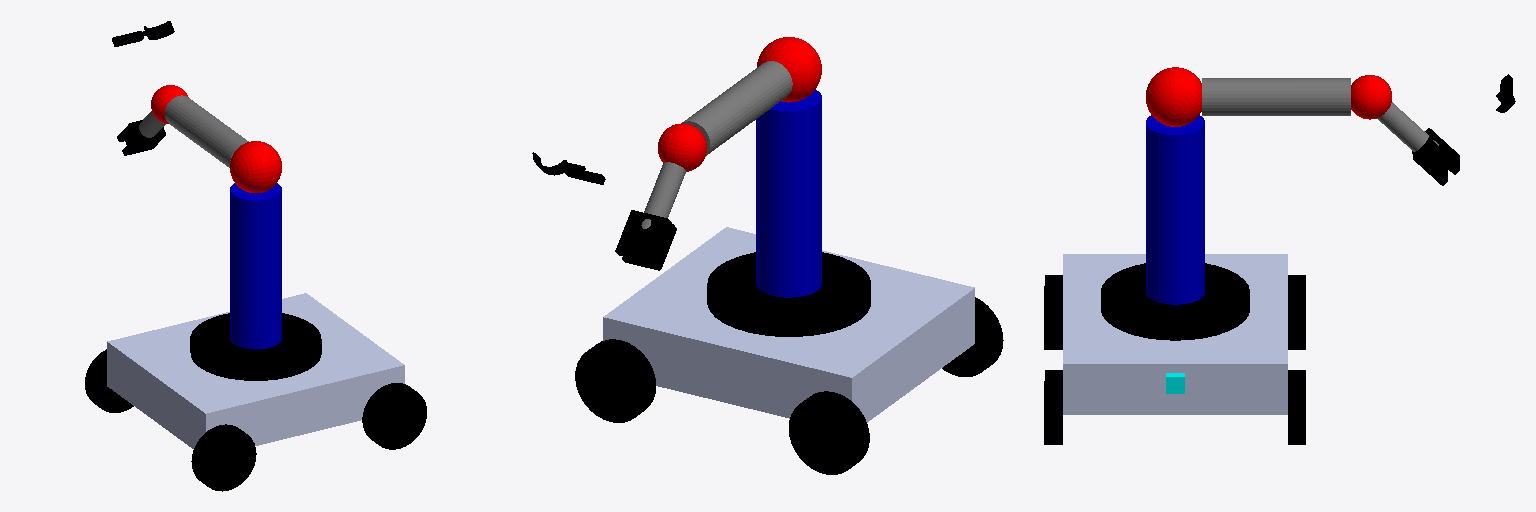
URDF robot description (armatronix):
<?xml version="1.0"?>
<robot name="armatronix">

    <link name="base_link">
        <visual>
            <origin xyz="0 0 0.075" rpy="0 0 0"/>
            <geometry>
                <box size="0.7 0.6 0.15" />
            </geometry>
            <material name="">
                <color rgba="0.79216 0.81961 0.93333 1" />
            </material>
        </visual>
        <collision>
            <origin xyz="0 0 0.075" rpy="0 0 0"/>
            <geometry>
                <box size="0.7 0.6 0.15" />
            </geometry>
        </collision>
        <inertial><origin xyz="0 0 0.075" rpy="0 0 0" /><mass value="5" /><inertia ixx="0.159375" ixy="0.0" ixz="0.0" iyy="0.213542" iyz="0.0" izz="0.354167" /></inertial>
    </link>


    <link name="camera_link">
        <visual>
            <origin xyz="0 0 0" rpy="0 0 0"/>
            <geometry>
                <box size="0.05 0.05 0.05"/> 
            </geometry>
            <material name="cyan">
                <color rgba="0.0 1.0 1.0 1.0"/> 
            </material>
        </visual>
        <collision>
            <origin xyz="0 0 0" rpy="0 0 0"/>
            <geometry>
                <box size="0.05 0.05 0.05"/> 
            </geometry>
        </collision>
        <inertial>
            <origin xyz="0 0 0" rpy="0 0 0"/>
            <mass value="0.1"/> 
            <inertia ixx="0.00005" ixy="0.0" ixz="0.0" iyy="0.00005" iyz="0.0" izz="0.0001"/>
        </inertial>

    </link>

    <joint name="camera_joint" type="fixed">
        <axis xyz="0 1 0" />
        <parent link="base_link" />
        <child link="camera_link" />
        <origin rpy="0 0 0" xyz="0.35 0 0.1" />
    </joint>


    <link name="front_left_wheel">
        <visual>
            <origin xyz="0 0 0" rpy="0.0 1.5708 0.0"/>
            <geometry>
                <cylinder radius="0.1" length="0.05" />
            </geometry>
            <material name="black">
                <color rgba="0 0 0 1.0" />
            </material>
        </visual>
        <collision>
            <origin xyz="0 0 0" rpy="0.0 1.5708 0.0"/>
            <geometry>
                <cylinder radius="0.1" length="0.05" />
            </geometry>
            <surface>
                <friction>
                    <ode>
                        <mu>0.9</mu> 
                        <mu2>0.9</mu2>
                    </ode>
                </friction>
            </surface>
        </collision>
    
        <inertial><origin xyz="0 0 0" rpy="0 1.5708 0" /><mass value="2" /><inertia ixx="0.005417" ixy="0.0" ixz="0.0" iyy="0.005417" iyz="0.0" izz="0.010000" /></inertial>
    </link>

    <joint name="front_left_wheel_joint" type="continuous">
        <axis xyz="1 0 0" />
        <parent link="base_link" />
        <child link="front_left_wheel" />
        <origin xyz="0.3 0.325 0" rpy="0 0 1.57"/>
    </joint>


    <link name="front_right_wheel">
        <visual>
            <origin xyz="0 0 0" rpy="0.0 1.5708 0.0"/>
            <geometry>
                <cylinder radius="0.1" length="0.05" />
            </geometry>
            <material name="black">
                <color rgba="0 0 0 1.0" />
            </material>
        </visual>
    <collision>
        <origin xyz="0 0 0" rpy="0 1.5708 0" />
        <geometry>
            <cylinder radius="0.1" length="0.05" />
        </geometry>
        <surface>
            <friction>
                <ode>
                    <mu>0.9</mu> 
                    <mu2>0.9</mu2>
                </ode>
            </friction>
        </surface>

    </collision>
    
    <inertial><origin xyz="0 0 0" rpy="0 1.5708 0" /><mass value="2" /><inertia ixx="0.005417" ixy="0.0" ixz="0.0" iyy="0.005417" iyz="0.0" izz="0.010000" /></inertial></link>

    <joint name="front_right_wheel_joint" type="continuous">
        <axis xyz="1 0 0" />
        <parent link="base_link" />
        <child link="front_right_wheel" />
        <origin xyz="0.3 -0.325 0" rpy="0 0 1.57" />
    </joint>


    <link name="rear_left_wheel">
        <visual>
            <origin xyz="0 0 0" rpy="0 1.5708 0" />
            <geometry>
                <cylinder radius="0.1" length="0.05" />
            </geometry>
            <material name="black">
                <color rgba="0 0 0 1.0" />
            </material>
        </visual>
    <collision>
        <origin xyz="0 0 0" rpy="0 1.5708 0" />
        <geometry>
            <cylinder radius="0.1" length="0.05" />
        </geometry>
        <surface>
            <friction>
                <ode>
                    <mu>0.9</mu> 
                    <mu2>0.9</mu2>
                </ode>
            </friction>
        </surface>
    </collision>
    
    <inertial><origin xyz="0 0 0" rpy="0 1.5708 0" /><mass value="2" /><inertia ixx="0.005417" ixy="0.0" ixz="0.0" iyy="0.005417" iyz="0.0" izz="0.010000" /></inertial></link>

    <joint name="rear_left_wheel_joint" type="continuous">
        <axis xyz="1 0 0" />
        <parent link="base_link" />
        <child link="rear_left_wheel" />
        <origin xyz="-0.3 0.325 0" rpy="0 0 1.57" />
    </joint>


    <link name="rear_right_wheel">
        <visual>
            <origin xyz="0 0 0" rpy="0 1.5708 0" />
            <geometry>
                <cylinder radius="0.1" length="0.05" />
            </geometry>
            <material name="black">
                <color rgba="0 0 0 1.0" />
            </material>
        </visual>
    <collision>
        <origin xyz="0 0 0" rpy="0 1.5708 0" />
        <geometry>
            <cylinder radius="0.1" length="0.05" />
        </geometry>
        <surface>
            <friction>
                <ode>
                    <mu>0.9</mu> 
                    <mu2>0.9</mu2>
                </ode>
            </friction>
        </surface>
    </collision>
    
    <inertial><origin xyz="0 0 0" rpy="0 1.5708 0" /><mass value="2" /><inertia ixx="0.005417" ixy="0.0" ixz="0.0" iyy="0.005417" iyz="0.0" izz="0.010000" /></inertial></link>

    <joint name="rear_right_wheel_joint" type="continuous">
        <axis xyz="1 0 0" />
        <parent link="base_link" />
        <child link="rear_right_wheel" />
        <origin xyz="-0.3 -0.325 0" rpy="0 0 1.57" />
    </joint>





    <link name="arm_base_link">
        <visual>
            <geometry>
                <cylinder length="0.05" radius="0.2" />
            </geometry>
            <material name="Black">
                <color rgba="0 0 0 1" />
            </material>
            <origin xyz="0 0 0.025" rpy="0 0 0" />
        </visual>
        <collision>
            <geometry>
                <cylinder length="0.05" radius="0.2" />
            </geometry>
            <origin xyz="0 0 0.025" rpy="0 0 0" />
        </collision>
        <inertial>
            <mass value="2.0" /> 
            <origin xyz="0 0 0.025" rpy="0 0 0" />
            <inertia ixx="0.0035" ixy="0.0" ixz="0.0" iyy="0.0035" iyz="0.0" izz="0.007" />
        </inertial>
    </link>

    <link name="link_1">
        <visual>
            <origin xyz="0.0 0.0 0.05" rpy="0.0 0.0 0.0" />
            <geometry>
                <cylinder radius="0.08" length="0.5" />
            </geometry>
            <material name="Blue">
                <color rgba="0 0 0.8 1" />
            </material>
        </visual>
        <collision>
            <geometry>
                <cylinder radius="0.08" length="0.5" />
            </geometry>
            <origin xyz="0.0 0.0 0.05" rpy="0.0 0.0 0.0" />
        </collision>
        <inertial>
            <mass value="1.5" /> 
            <origin xyz="0 0 0.05" rpy="0 0 0" />
            <inertia ixx="0.005" ixy="0.0" ixz="0.0" iyy="0.005" iyz="0.0" izz="0.0015" />
        </inertial>
    </link>

    <link name="link_2">
        <visual>
            <origin xyz="0 0 0.0" rpy="0 1.5708 0" />
            <geometry>
                <sphere radius="0.08"/>
                <!-- <cylinder radius="0.08" length="0.1" /> -->
            </geometry>
            <material name="Red">
                <color rgba="1 0 0 1" />
            </material>
        </visual>
        <collision>
            <geometry>
                <sphere radius="0.08"/>
                <!-- <cylinder radius="0.08" length="0.1" /> -->
            </geometry>
            <origin xyz="0 0 0.0" rpy="0 1.5708 0" />
        </collision>
        <inertial>
            <mass value="1.0" /> 
            <origin xyz="0 0 0.0" rpy="0 1.5708 0" />
            <inertia ixx="0.00256" ixy="0" ixz="0" iyy="0.00256" iyz="0" izz="0.00256"/>
        </inertial>
    </link>

    <link name="link_3">
        <visual>
            <origin xyz="0.0 0 -0.02" rpy="0 0 0" />
            <geometry>
                <cylinder radius="0.05" length="0.4" />
            </geometry>
            <material name="Blue">
                <color rgba="0.5 0.5 0.5 1" />
            </material>
        </visual>
        <collision>
            <geometry>
                <cylinder radius="0.05" length="0.4" />
            </geometry>
            <origin xyz="0.0 0 -0.02" rpy="0 0 0" />
        </collision>
        <inertial>
            <mass value="1.0" /> 
            <origin xyz="0.0 0 -0.02" rpy="0 0 0" />
            <inertia ixx="0.013958" ixy="0.0" ixz="0.0" iyy="0.013958" iyz="0.0" izz="0.00125" />
        </inertial>
    </link>

    <link name="link_4">
        <visual>
            <origin xyz="0 0 0.0" rpy="0 1.5708 0" />
            <geometry>
                <sphere radius="0.06"/>
            </geometry>
            <material name="Red">
                <color rgba="1 0 0 1" />
            </material>
        </visual>
        <collision>
            <geometry>
                <sphere radius="0.06"/>
            </geometry>
            <origin xyz="0 0 0.0" rpy="0 1.5708 0" />
        </collision>
        <inertial>
            <mass value="0.5" /> 
            <origin xyz="0 0 0.0" rpy="0 1.5708 0" />
            <inertia ixx="0.0002" ixy="0.0" ixz="0.0" iyy="0.0002" iyz="0.0" izz="0.00005" />
        </inertial>
    </link>

    <link name="link_5">
        <visual>
            <origin xyz="0 0.0 0.0" rpy="0 0 0" />
            <geometry>
                <cylinder radius="0.03" length="0.2" />
            </geometry>
            <material name="Blue">
                <color rgba="0.5 0.5 0.5 1" />
            </material>
        </visual>
        <collision>
            <geometry>
                <cylinder radius="0.03" length="0.2" />
            </geometry>
            <origin xyz="0 0.0 0.0" rpy="0 0 0" />
        </collision>
        <inertial>
            <mass value="0.8" /> 
            <origin xyz="0 0.0 0.0" rpy="0 0 0" />
            <inertia ixx="0.002693" ixy="0.0" ixz="0.0" iyy="0.002693" iyz="0.0" izz="0.00036" />
        </inertial>
    </link>

    <link name="gripper_link">
        <visual>
            <geometry>
                <!-- <mesh filename="[local-path]/sample_ws/install/armatronix/share/armatronix/meshes/angular_gripper_body.stl" scale="0.002 0.002 0.002"/> -->
                <mesh filename='package://armatronix/meshes/angular_gripper_body.stl' scale="0.002 0.002 0.002"/>
            </geometry>
            <material name="black">
                    <color rgba="0 0 0 1.0" />
            </material>
            <origin xyz="0 0.0 0.0" rpy="3.14 0 0"/>
        </visual>

        <collision>
            <geometry>
                <!-- <mesh filename="[local-path]/sample_ws/install/armatronix/share/armatronix/meshes/angular_gripper_body.stl" scale="0.002 0.002 0.002"/> -->
                <mesh filename='package://armatronix/meshes/angular_gripper_body.stl' scale="0.002 0.002 0.002"/>
            </geometry>
            <origin xyz="0 0.0 0.0" rpy="3.14 0 0"/>
        </collision>

        <inertial>
            <mass value="0.2"/>  
            <origin xyz="0 0.0 0.0" rpy="3.14 0 0"/>
            <inertia ixx="0.001" ixy="0.0" ixz="0.0" iyy="0.001" iyz="0.0" izz="0.001"/>
        </inertial>
    </link>

    <link name="gripper_left_claw">
        <visual>
            <origin xyz="0.0 0.0 0.0" rpy="0.0 0.0 0.0"/>
            <geometry>
                <!-- <mesh filename="[local-path]/sample_ws/install/armatronix/share/armatronix/meshes/angular_gripper_left_claw.stl" scale="0.002 0.002 0.002"/> -->
                <mesh filename='package://armatronix/meshes/angular_gripper_left_claw.stl' scale="0.002 0.002 0.002"/>
            </geometry>
            <material name="black">
                    <color rgba="0 0 0 1.0" />
            </material>
        </visual>

        <collision>
            <geometry>
                <!-- <mesh filename="[local-path]/sample_ws/install/armatronix/share/armatronix/meshes/angular_gripper_left_claw.stl" scale="0.002 0.002 0.002"/> -->
                <mesh filename='package://armatronix/meshes/angular_gripper_left_claw.stl' scale="0.002 0.002 0.002"/>
            </geometry>
            <origin xyz="0 0.0 0.0" rpy="0 0 0"/>
        </collision>

        <inertial>
            <mass value="0.05"/>  
            <origin xyz="0 0.0 0.0" rpy="3.14 0 0"/>
            <inertia ixx="0.001" ixy="0.0" ixz="0.0" iyy="0.001" iyz="0.0" izz="0.001"/>
        </inertial>
    </link>

    <joint name="joint_0" type="fixed">
        <parent link="base_link" />
        <child link="arm_base_link" />
        <origin rpy="0 0 0" xyz="0.0 0.0 0.15" />
    </joint>

    <joint name="joint_1" type="revolute">
        <axis xyz="0 0 1" />
        <parent link="arm_base_link" />
        <child link="link_1" />
        <origin rpy="0 0 0" xyz="0.0 0.0 0.25" />
        <limit lower="-3.14" upper="0.0" effort="10" velocity="1.0" />
    </joint>

    <joint name="joint_2" type="revolute">
        <axis xyz="1 0 0" />
        <dynamics damping="0.1" friction="0.0"/>

        <parent link="link_1" />
        <child link="link_2" />
        <origin rpy="0 0 0" xyz="0.0 0.0 0.375" />
        <limit lower="-0.1" upper="2.00" effort="50" velocity="1.0" />
    </joint>

    <joint name="joint_3" type="fixed">
        <parent link="link_2" />
        <child link="link_3" />
        <origin rpy="1.57 0 0" xyz="0.0 0.25 0 " />
    </joint>

    <joint name="joint_4" type="revolute">
        <parent link="link_3" />
        <child link="link_4" />
        <origin rpy="-0.785 0 0" xyz=" 0 0 -0.27" />
        <axis xyz="1 0 0" />
        <limit lower="-0.5" upper="0.3" effort="10" velocity="1.0" />
    </joint>

    <joint name="joint_5" type="fixed">
        <parent link="link_4" />
        <child link="link_5" />
        <origin rpy="0 0 0" xyz="0.0 0.0 -0.15 " />
    </joint>

    <joint name="gripper_joint" type="revolute">
        <axis xyz="0 1 0" />
        <parent link="link_5"/>
        <child link="gripper_link"/>
        <limit lower="0.00" upper="1.57" effort="10" velocity="1.0" />
        <origin xyz="0 0 -0.1" rpy="1.5708 0 0"/>  
    </joint>

    <joint name="left_claw_joint" type="revolute">
        <axis xyz="0 1 0"/>
        <parent link="gripper_link"/>
        <child link="gripper_left_claw"/>
        <limit lower="0.00" upper="1.57" effort="10" velocity="1.0"/>
        <origin xyz="0 0 -0.3" rpy="0 0 0"/>
    </joint>

    <gazebo reference="base_link">
        <material>Gazebo/Red</material>
    </gazebo>

    <gazebo reference="front_left_wheel">
        <material>Gazebo/Black</material>
    </gazebo>

    <gazebo reference="front_right_wheel">
        <material>Gazebo/Black</material>
    </gazebo>

    <gazebo reference="rear_left_wheel">
        <material>Gazebo/Black</material>
    </gazebo>

    <gazebo reference="rear_right_wheel">
        <material>Gazebo/Black</material>
    </gazebo>

    <gazebo reference="arm_base_link">
        <material>Gazebo/Black</material>
    </gazebo>

    <gazebo reference="link_1">
        <material>Gazebo/Blue</material>
    </gazebo>

    <gazebo reference="link_3">
        <material>Gazebo/Blue</material>
    </gazebo>

    <gazebo reference="link_2">
        <material>Gazebo/Red</material>
    </gazebo>

    <gazebo reference="link_4">
        <material>Gazebo/Red</material>
    </gazebo>

    <gazebo reference="link_5">
        <material>Gazebo/Blue</material>
    </gazebo>

    <gazebo reference="camera_link">
        <material>Gazebo/cyan</material>
    </gazebo>


    <ros2_control name="IgnitionSystem" type="system">
        <hardware>
            <plugin>gz_ros2_control/GazeboSimSystem</plugin>
        </hardware>
        <joint name="joint_1">
            <command_interface name="position"/>
            <state_interface name="velocity"/>
            <state_interface name="position"/>
        </joint>
        <joint name="joint_2">
            <command_interface name="position"/>
            <state_interface name="velocity"/>
            <state_interface name="position"/>
        </joint>
        <joint name="joint_4">
            <command_interface name="position"/>
            <state_interface name="velocity"/>
            <state_interface name="position"/>
        </joint>

        <joint name="gripper_joint">
            <command_interface name="position"/>
            <state_interface name="velocity"/>
            <state_interface name="position"/>
        </joint>
    </ros2_control>

    <gazebo>
        <plugin filename="gz_ros2_control-system" name="gz_ros2_control::GazeboSimROS2ControlPlugin">
            <robot_param>robot_description</robot_param>
            <parameters>[local-path]/sample_ws/install/armatronix/share/armatronix/config/joint_controller.yaml</parameters>
        </plugin>
    </gazebo>

    <gazebo> 
        <plugin
        filename="gz-sim-diff-drive-system"
        name="gz::sim::systems::DiffDrive">
        <left_joint>front_left_wheel_joint</left_joint>
        <left_joint>rear_left_wheel_joint</left_joint>
        <right_joint>front_right_wheel_joint</right_joint>
        <right_joint>rear_right_wheel_joint</right_joint>
        <wheel_separation>0.6</wheel_separation>
        <wheel_radius>0.1</wheel_radius>
        <max_linear_acceleration>2</max_linear_acceleration>
        <min_linear_acceleration>-2</min_linear_acceleration>
        <max_angular_acceleration>3</max_angular_acceleration>
        <min_angular_acceleration>-3</min_angular_acceleration>
        <max_linear_velocity>2.0</max_linear_velocity>
        <min_linear_velocity>-2.0</min_linear_velocity>
        <max_angular_velocity>1</max_angular_velocity>
        <min_angular_velocity>-1</min_angular_velocity>
        <topic>cmd_vel</topic>
        <frame_id>odom</frame_id>
        <child_frame_id>base_link</child_frame_id>
        <odom_topic>odom</odom_topic>
        <odom_publisher_frequency>50</odom_publisher_frequency>
        <tf_topic>/tf</tf_topic>
      </plugin>
    </gazebo>

    <!-- <gazebo reference="camera_link">
        <sensor name="camera" type="camera">
            <pose>0 0 0 0 0 0</pose>
            <visualise>true</visualise>
            <update_rate>10</update_rate>
            <camera>
                <camera_info_topic>camera/camera_info</camera_info_topic>
                <horizontal_fov>1.889</horizontal_fov>
                <image>
                    <format>R8G8B8</format>
                    <width>640</width>
                    <height>480</height>
                </image>
                <clip>
                    <near>0.85</near>
                    <far>8.0</far>
                </clip>
            </camera>
            <topic>camera/image_raw</topic>
            <gz_frame_id>camera_link_optical</gz_frame_id>
        </sensor>
    </gazebo> -->





</robot>

--- Render facts (derived) ---
Views: 3 orthographic renders of the robot side by side, from view 1: azimuth 30°, elevation 25°; view 2: azimuth 150°, elevation 25°; view 3: azimuth 270°, elevation 25°.
Model armatronix with 14 links and 13 joints (5 revolute, 4 continuous, 4 fixed), rooted at base_link, posed all joints at 0.
Visible links, largest first — view 1: base_link, link_1, arm_base_link, front_right_wheel, rear_right_wheel, link_3, link_2, rear_left_wheel, gripper_link, gripper_left_claw, link_4; view 2: base_link, link_1, arm_base_link, front_left_wheel, rear_left_wheel, link_3, gripper_link, link_2, rear_right_wheel, link_4, link_5, gripper_left_claw; view 3: base_link, link_1, arm_base_link, link_3, link_2, link_4, gripper_link, front_right_wheel, rear_right_wheel, front_left_wheel, rear_left_wheel, link_5.
Link boxes in pixels (x1,y1,x2,y2): base_link: [107, 293, 404, 448]; link_1: [230, 183, 281, 349]; arm_base_link: [190, 313, 321, 380]; front_right_wheel: [362, 383, 426, 449]; rear_right_wheel: [191, 424, 256, 491]; link_3: [165, 95, 248, 167]; link_2: [230, 141, 281, 192]; rear_left_wheel: [85, 349, 133, 412]; gripper_link: [117, 120, 165, 155]; gripper_left_claw: [112, 21, 174, 46]; link_4: [151, 85, 188, 123]; base_link: [603, 227, 974, 422]; link_1: [756, 89, 821, 297]; arm_base_link: [707, 252, 870, 336]; front_left_wheel: [575, 339, 655, 422]; rear_left_wheel: [789, 391, 869, 474]; link_3: [682, 61, 792, 156]; gripper_link: [615, 210, 676, 270]; link_2: [757, 37, 821, 102]; rear_right_wheel: [942, 297, 1003, 376]; link_4: [658, 123, 706, 171]; link_5: [641, 162, 685, 228]; gripper_left_claw: [532, 152, 605, 184]; base_link: [1063, 254, 1287, 414]; link_1: [1146, 115, 1204, 304]; arm_base_link: [1101, 263, 1249, 340]; link_3: [1202, 78, 1350, 115]; link_2: [1146, 67, 1201, 126]; link_4: [1351, 75, 1391, 119]; gripper_link: [1412, 128, 1459, 185]; front_right_wheel: [1044, 370, 1062, 444]; rear_right_wheel: [1044, 275, 1062, 349]; front_left_wheel: [1288, 370, 1305, 444]; rear_left_wheel: [1288, 275, 1305, 349]; link_5: [1377, 102, 1438, 151].
Size in the robot's own frame: 0.8 by 1.26 by 0.9622 metres.
Meshes: 2 distinct files referenced, 2 mesh visuals loaded (2 binary STL).
